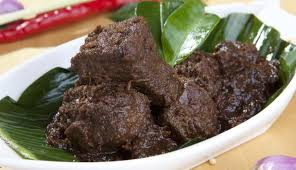rendang: (22, 11, 289, 160)
